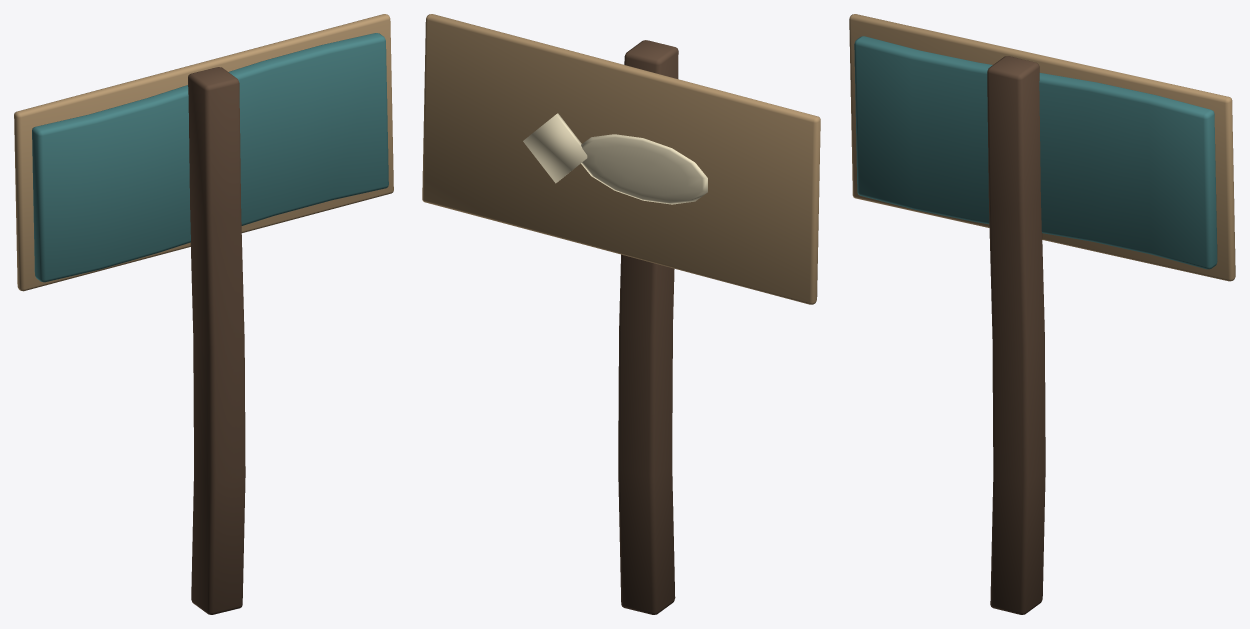
File: sign_board.glb
3 renders of one model, left to right at view 1: azimuth 30°, elevation 25°; view 2: azimuth 150°, elevation 25°; view 3: azimuth 330°, elevation 25°, orthographic. The views are drawn at different scales.
Visible parts, largest first — view 1: Sign_Board_Board, Sign_Board_Post, Sign_Board_Frame; view 2: Sign_Board_Frame, Sign_Board_Post, Sign_Board_Icon; view 3: Sign_Board_Board, Sign_Board_Post, Sign_Board_Frame.
Boxes of the visible parts, x1,y1,x2,y2 form: Sign_Board_Board: (32, 33, 388, 282); Sign_Board_Post: (188, 67, 245, 614); Sign_Board_Frame: (14, 14, 393, 291); Sign_Board_Frame: (422, 14, 820, 304); Sign_Board_Post: (618, 40, 678, 614); Sign_Board_Icon: (523, 113, 707, 204); Sign_Board_Board: (854, 36, 1217, 269); Sign_Board_Post: (987, 56, 1045, 614); Sign_Board_Frame: (849, 14, 1235, 281).
Bounding box in the file's own units: 1.19 × 1.6 × 0.197.
